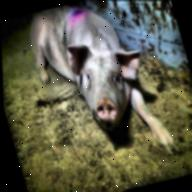boar: (21, 0, 183, 178)
